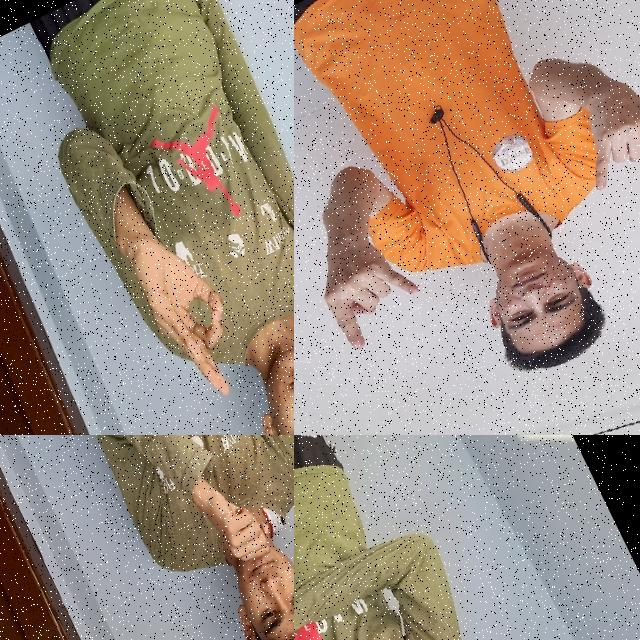Corna: (294, 208, 439, 363), (545, 54, 640, 216)
Fist Mouth: (172, 451, 294, 640)
Okay: (112, 217, 276, 420)
